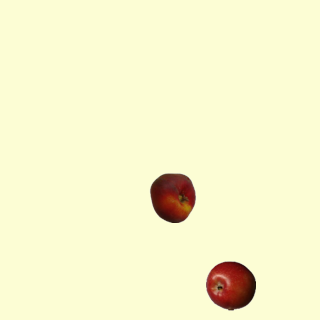Apple Braeburn: (205, 260, 255, 310)
Nectarine Flat: (147, 172, 197, 222)
